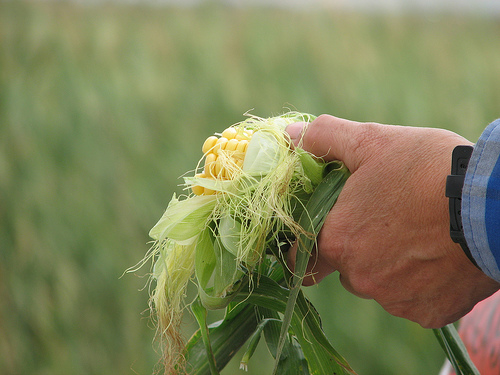corn: (178, 111, 309, 211)
